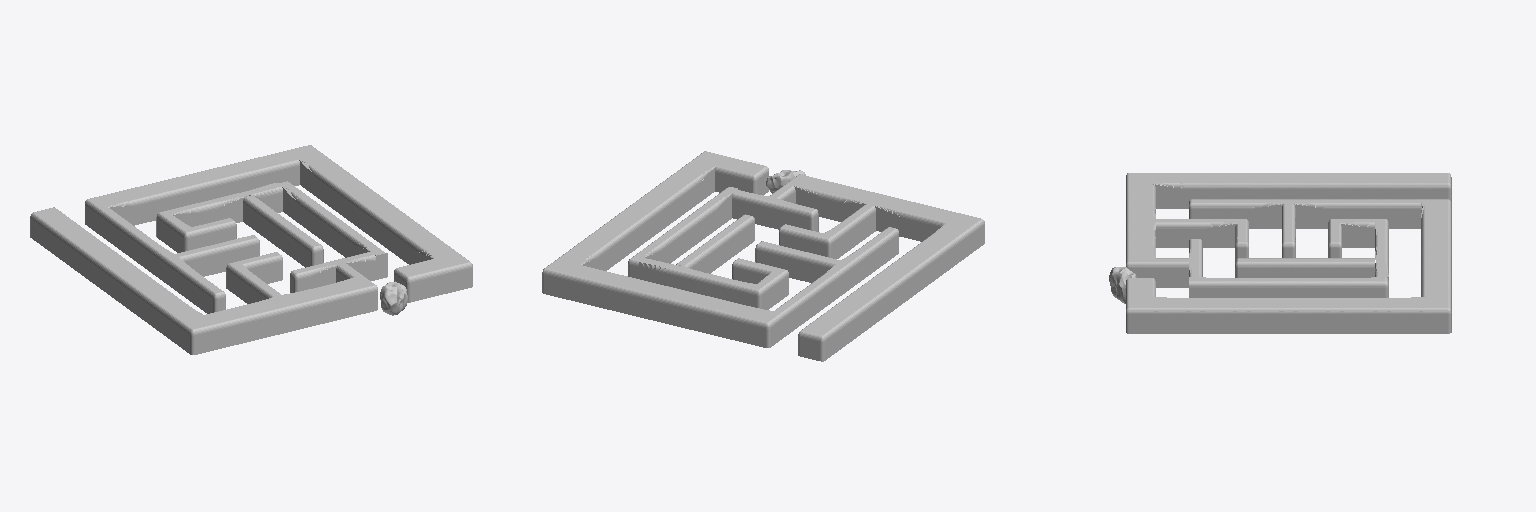
File: maze_sem_chao.obj
The picture shows the model from 3 angles: view 1: azimuth 30°, elevation 25°; view 2: azimuth 150°, elevation 25°; view 3: azimuth 270°, elevation 25°; orthographic projection.
Parts seen in each view (by area): view 1: Plane.005_Plane.006, Plane.001_Plane.002, Plane.002_Plane.003, Plane.006_Plane.007, Plane.003_Plane.004, Plane.017_Plane.019, Plane.013_Plane.014, Plane.014_Plane.015, Plane.004_Plane.005, Plane.007_Plane.008, Plane.009_Plane.010, Plane.011_Plane.012 (+4 smaller); view 2: Plane.005_Plane.006, Plane.002_Plane.003, Plane.001_Plane.002, Plane.006_Plane.007, Plane.003_Plane.004, Plane.017_Plane.019, Plane.014_Plane.015, Plane.009_Plane.010, Plane.013_Plane.014, Plane.004_Plane.005, Plane.011_Plane.012, Plane.007_Plane.008 (+3 smaller); view 3: Plane.001_Plane.002, Plane.005_Plane.006, Plane.003_Plane.004, Plane.017_Plane.019, Plane.002_Plane.003, Plane.013_Plane.014, Plane.006_Plane.007, Plane.011_Plane.012, Plane.015_Plane.016, Plane.010_Plane.011, Plane.014_Plane.015, Plane.004_Plane.005 (+3 smaller).
Part boxes in pixels (x1,y1,x2,y2): Plane.005_Plane.006: (30,207,217,354); Plane.001_Plane.002: (287,145,472,292); Plane.002_Plane.003: (85,151,299,233); Plane.006_Plane.007: (205,275,377,348); Plane.003_Plane.004: (99,208,225,313); Plane.017_Plane.019: (278,181,387,279); Plane.013_Plane.014: (243,195,323,267); Plane.014_Plane.015: (156,183,282,240); Plane.004_Plane.005: (176,235,259,276); Plane.007_Plane.008: (394,259,447,302); Plane.009_Plane.010: (290,252,375,292); Plane.011_Plane.012: (226,261,280,303); Plane.005_Plane.006: (798,213,984,361); Plane.002_Plane.003: (567,265,783,347); Plane.001_Plane.002: (542,151,727,299); Plane.006_Plane.007: (785,174,957,241); Plane.003_Plane.004: (775,227,898,336); Plane.017_Plane.019: (628,186,738,278); Plane.014_Plane.015: (639,258,766,309); Plane.009_Plane.010: (732,190,818,231); Plane.013_Plane.014: (676,214,754,273); Plane.004_Plane.005: (755,241,839,282); Plane.011_Plane.012: (818,204,875,258); Plane.007_Plane.008: (715,157,768,194); Plane.001_Plane.002: (1126,297,1451,333); Plane.005_Plane.006: (1126,173,1451,208); Plane.003_Plane.004: (1189,199,1420,228); Plane.017_Plane.019: (1189,277,1388,297); Plane.002_Plane.003: (1421,199,1451,300); Plane.013_Plane.014: (1235,258,1374,277); Plane.006_Plane.007: (1126,184,1155,280); Plane.011_Plane.012: (1156,219,1248,247); Plane.015_Plane.016: (1328,219,1374,247); Plane.010_Plane.011: (1156,258,1188,287); Plane.014_Plane.015: (1375,219,1388,276); Plane.004_Plane.005: (1282,204,1295,257).
Bounding box in the file's own units: 43.71 × 4.61 × 46.03.